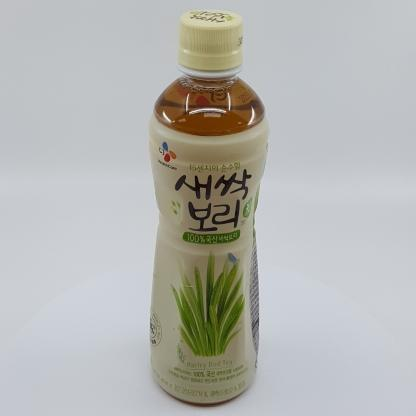CJ-----410ML: (147, 9, 269, 405)
